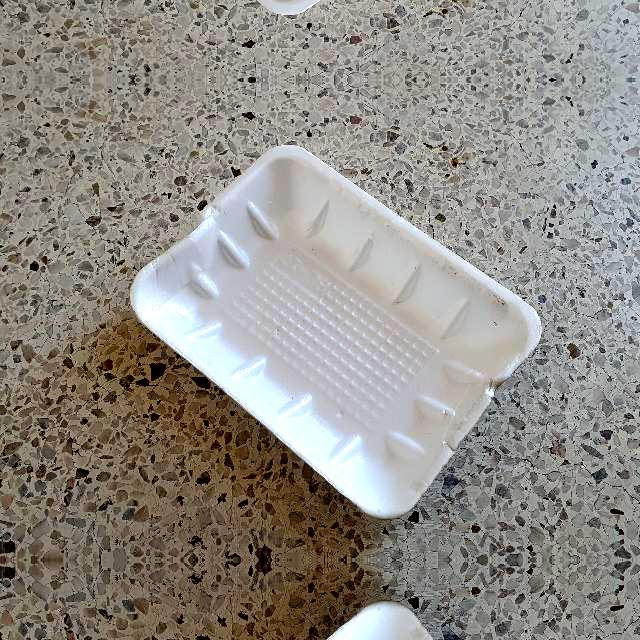Styrofoam: (127, 144, 543, 520), (130, 145, 542, 518)
